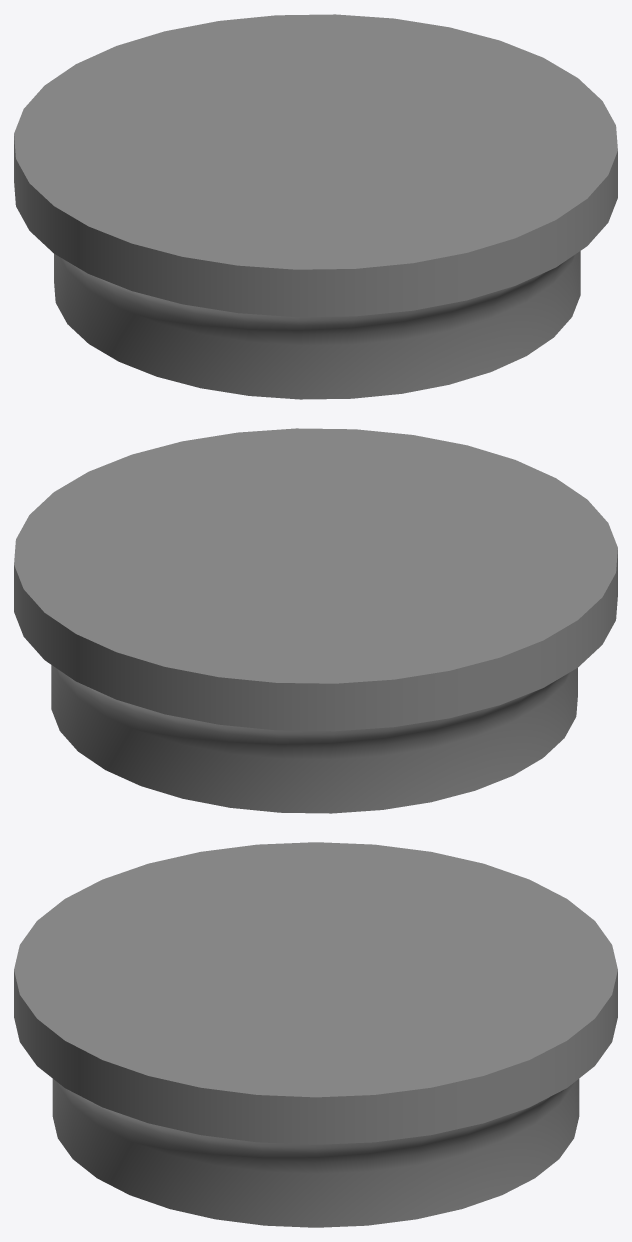
Rendered from Carriiage.fbx.
3 renders of one model, top to bottom at view 1: azimuth 30°, elevation 25°; view 2: azimuth 150°, elevation 25°; view 3: azimuth 270°, elevation 25°, orthographic.
Visible parts, largest first — view 1: Sphere.001; view 2: Sphere.001; view 3: Sphere.001.
Boxes of the visible parts, x1,y1,x2,y2 form: Sphere.001: [14, 14, 617, 399]; Sphere.001: [14, 428, 617, 813]; Sphere.001: [14, 842, 617, 1227].
Bounding box in the file's own units: 229 × 61.13 × 229.
